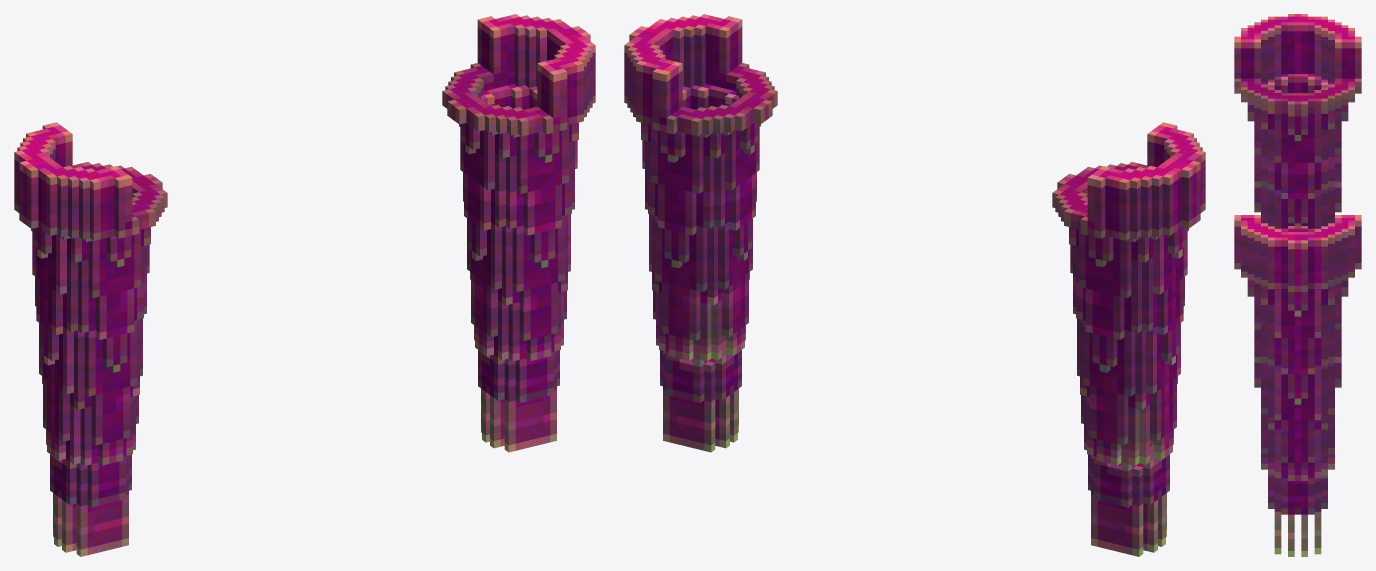
The model's file is armor_set1_hands.glb.
The picture shows the model from 3 angles, left to right: view 1: azimuth 30°, elevation 25°; view 2: azimuth 150°, elevation 25°; view 3: azimuth 270°, elevation 25°; orthographic projection. The views are drawn at different scales.
Visible parts, largest first — view 1: Set1_ArticulatedGauntlets_7mm; view 2: Set1_ArticulatedGauntlets_7mm; view 3: Set1_ArticulatedGauntlets_7mm.
Part boxes in pixels (left/top/right/bottom): Set1_ArticulatedGauntlets_7mm: left=14, top=14, right=595, bottom=556; Set1_ArticulatedGauntlets_7mm: left=624, top=14, right=1205, bottom=556; Set1_ArticulatedGauntlets_7mm: left=1234, top=14, right=1361, bottom=556.
Bounding box in the file's own units: 0.567 × 0.378 × 0.133.
